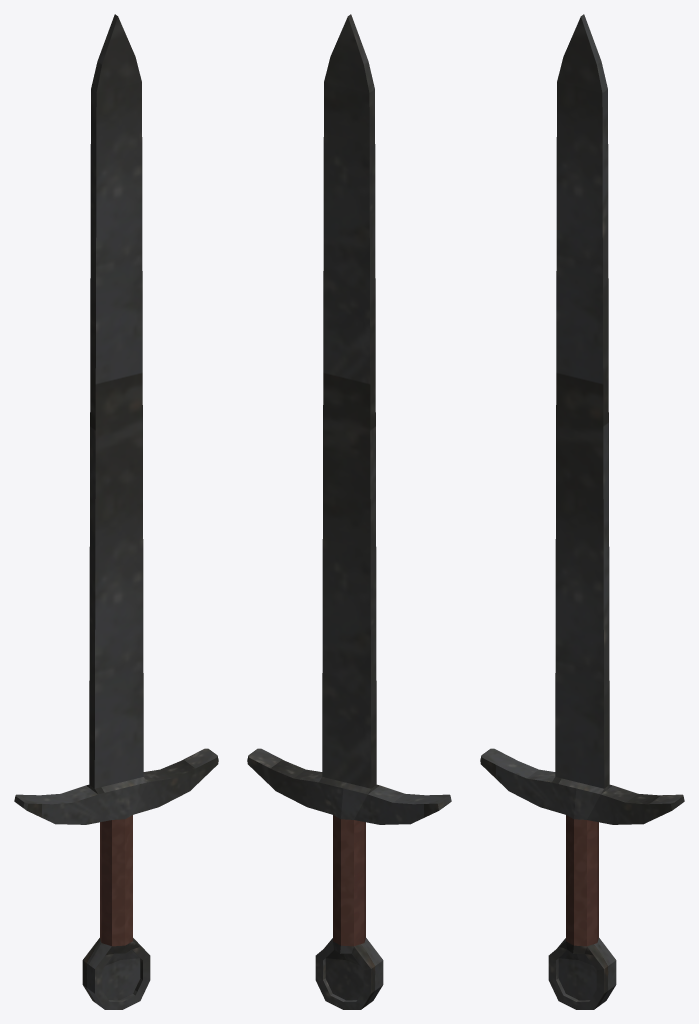
File: LP_IronSword.glb
3 views of the same model, side by side, from view 1: azimuth 30°, elevation 25°; view 2: azimuth 150°, elevation 25°; view 3: azimuth 330°, elevation 25° (orthographic).
Parts seen in each view (by area): view 1: Plane; view 2: Plane; view 3: Plane.
Part boxes in pixels (left/top/right/bottom): Plane: left=14, top=14, right=218, bottom=1009; Plane: left=247, top=14, right=451, bottom=1009; Plane: left=480, top=14, right=684, bottom=1009.
Size of the model in its own units: 0.1817 by 0.8808 by 0.0301.
2 materials, 2 textured.
